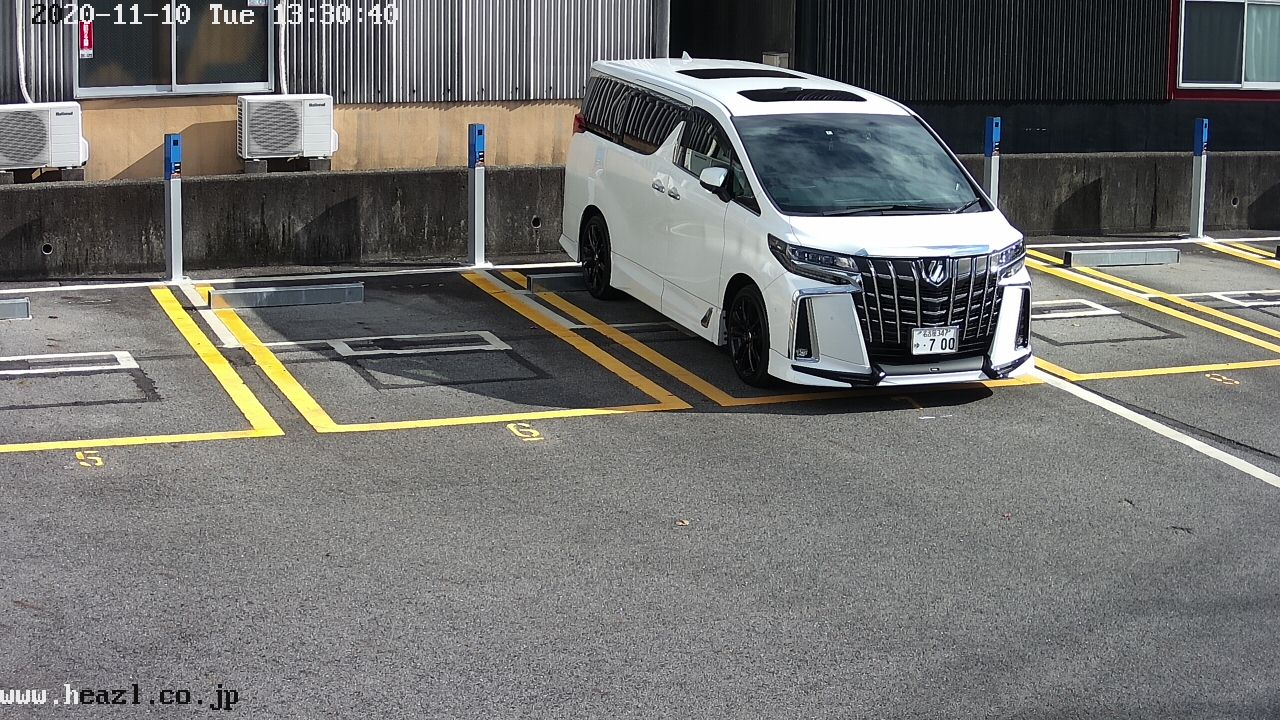number_plate: (913, 326, 961, 355)
